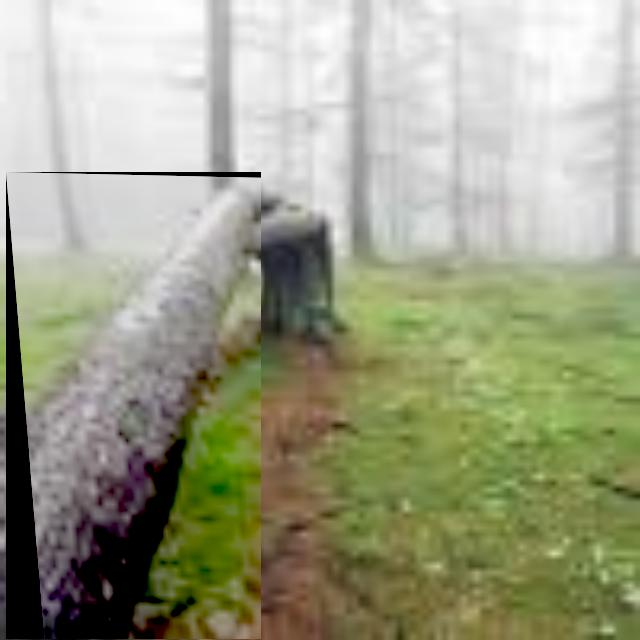Fallen Tree: (6, 172, 262, 640)
